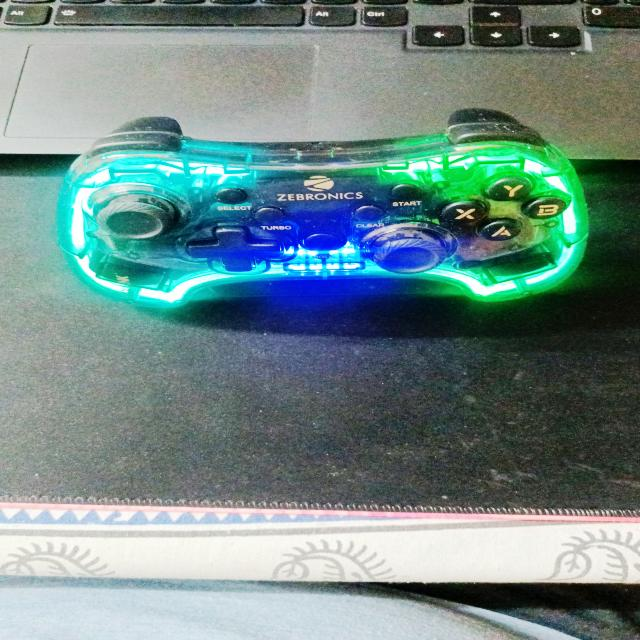gamepad: (54, 107, 591, 309)
